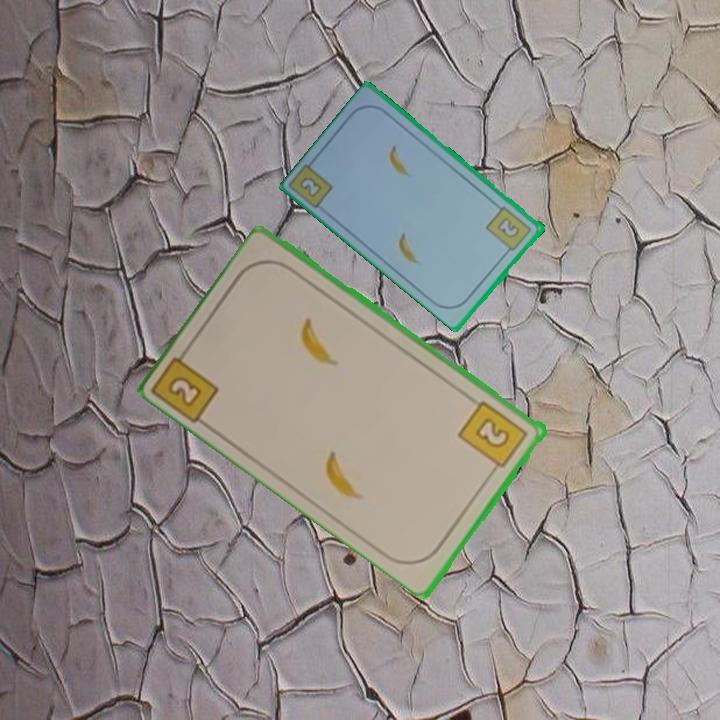2b: (455, 396, 531, 477), (151, 341, 223, 426), (483, 203, 535, 257), (296, 173, 325, 201)
